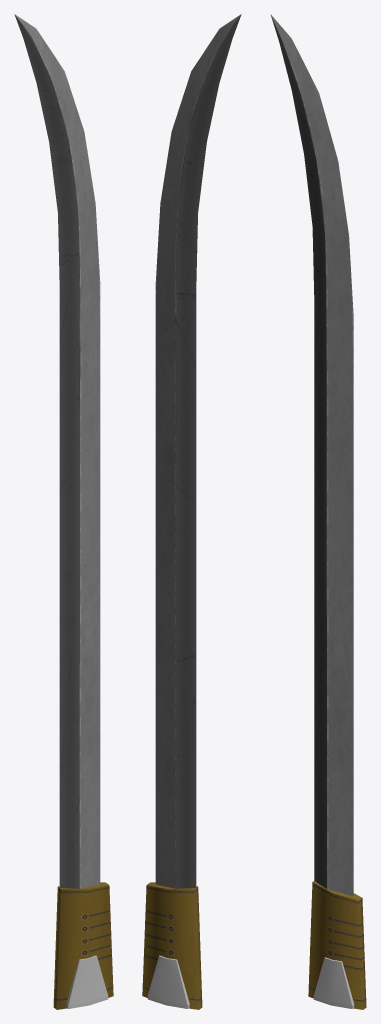
The model's file is vibrosword_blade.fbx.
3 views of the same model, side by side, from view 1: azimuth 30°, elevation 25°; view 2: azimuth 150°, elevation 25°; view 3: azimuth 330°, elevation 25° (orthographic). The views are drawn at different scales.
Visible parts, largest first — view 1: vibrosword_blade; view 2: vibrosword_blade; view 3: vibrosword_blade.
Part boxes in pixels (x1,y1,x2,y2): vibrosword_blade: (14,14,113,1009); vibrosword_blade: (142,14,241,1009); vibrosword_blade: (270,14,366,1009).
Size of the model in its own units: 12.82 by 126 by 2.89.
